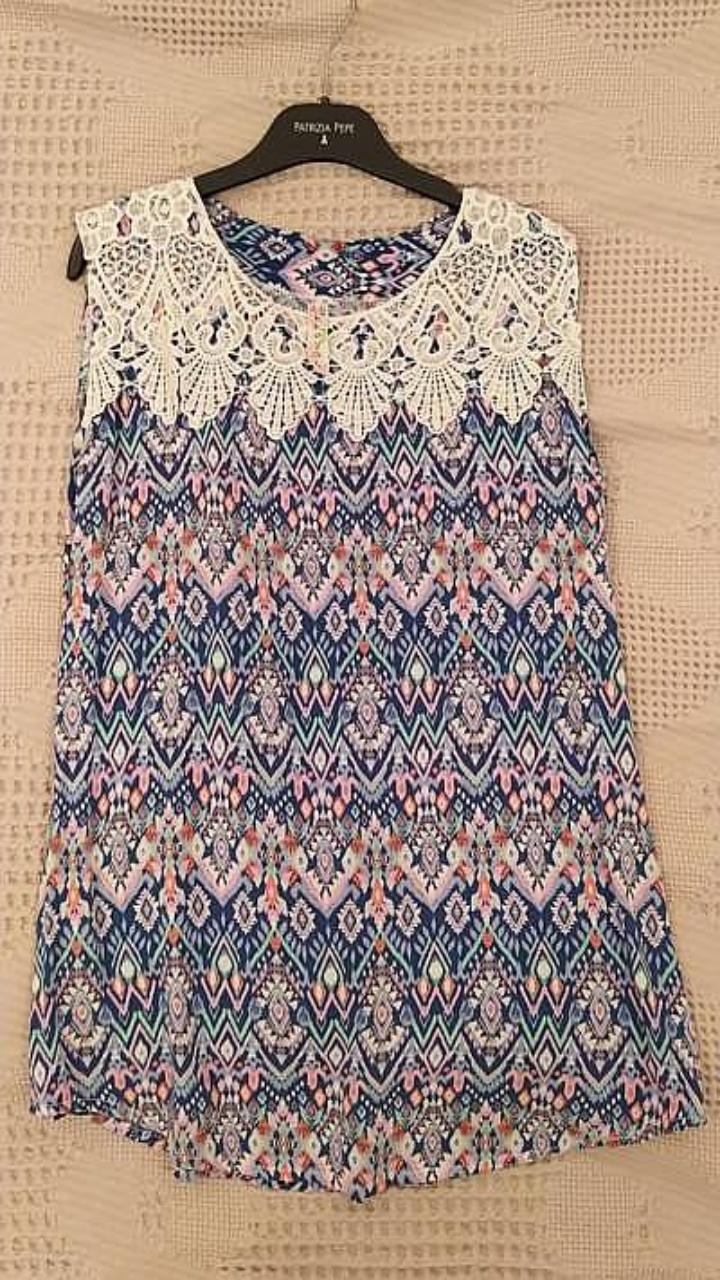Dresses: (29, 177, 705, 1199)
